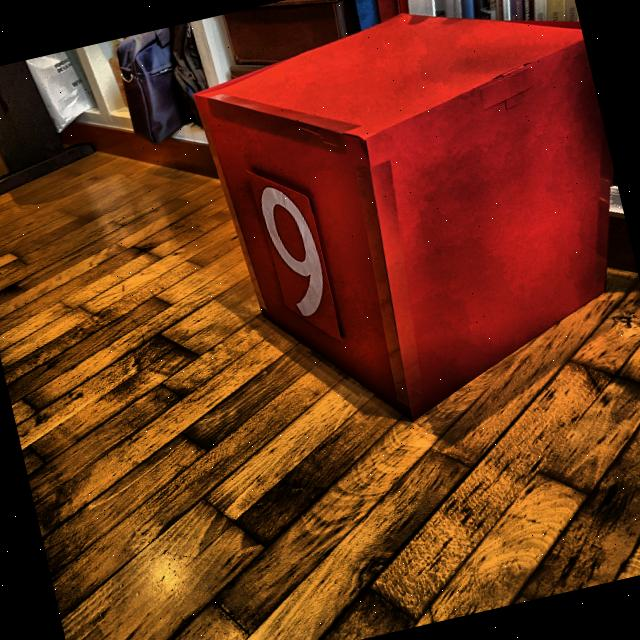nine: (255, 178, 334, 324)
red box: (187, 0, 640, 460)
